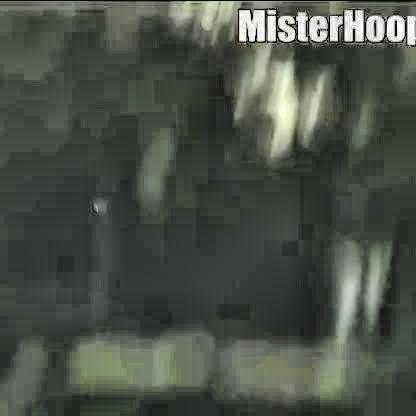golfball: (91, 198, 107, 211)
